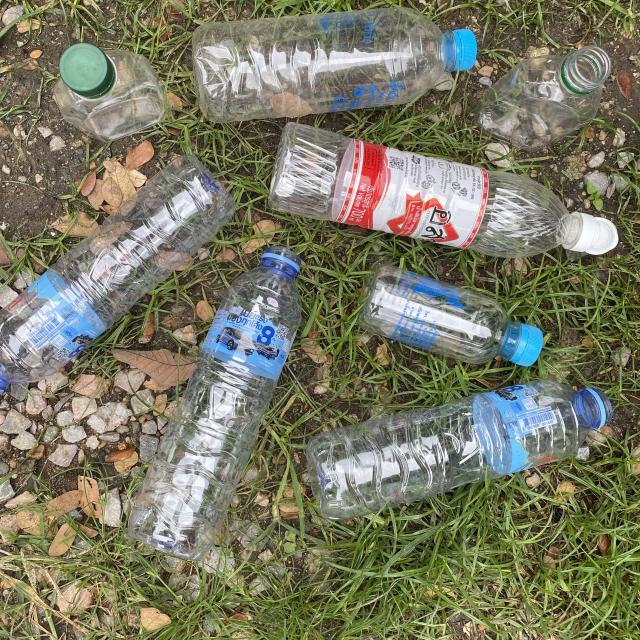plastik: (0, 155, 235, 393), (128, 247, 302, 560), (269, 122, 618, 258), (307, 380, 612, 520), (192, 8, 477, 122), (359, 265, 543, 366), (475, 46, 611, 151), (53, 43, 166, 143)
